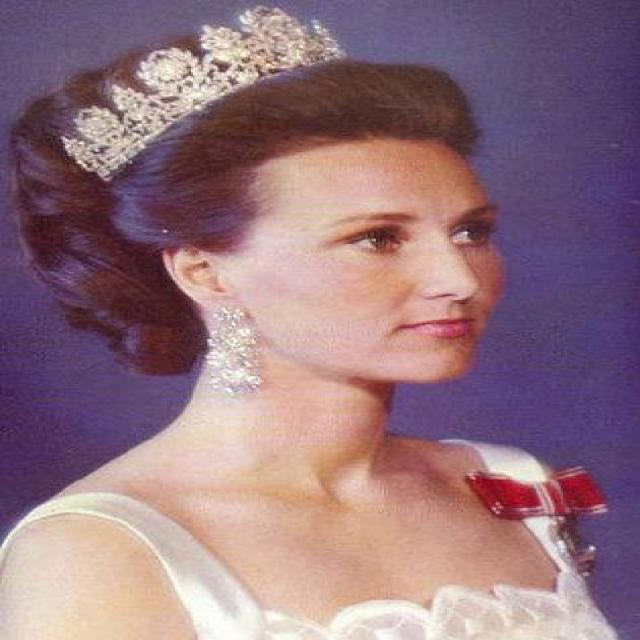Earring: (198, 310, 260, 404)
